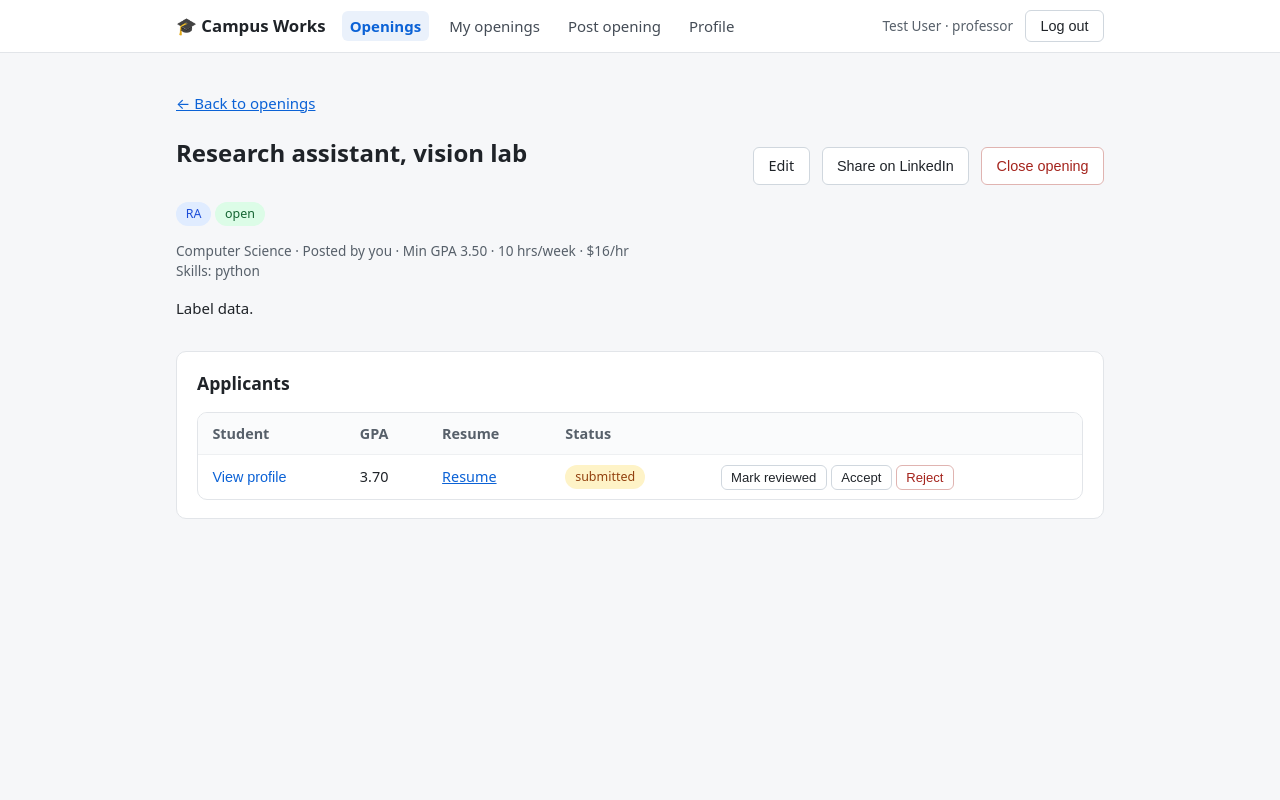
Test case: owner reviews an applicant, views the profile, shares, and closes
Expected: the heading "Applicants" is shown, [197, 371, 290, 395]
Click the button "View profile". click: (249, 477)
box: [212, 469, 286, 485]
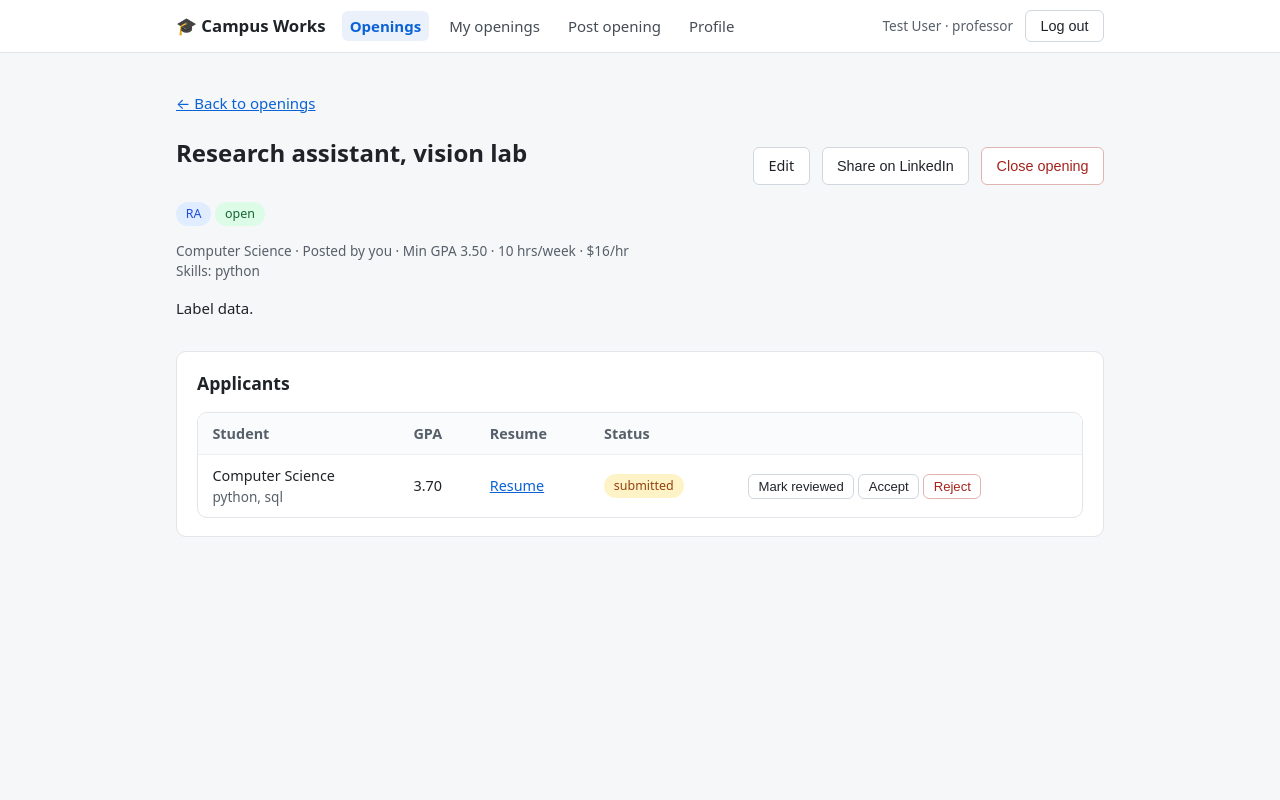
Now the text "Computer Science" is shown, box [212, 466, 335, 485]
Click the button "Mark reviewed". click: (801, 486)
box: [748, 474, 854, 499]
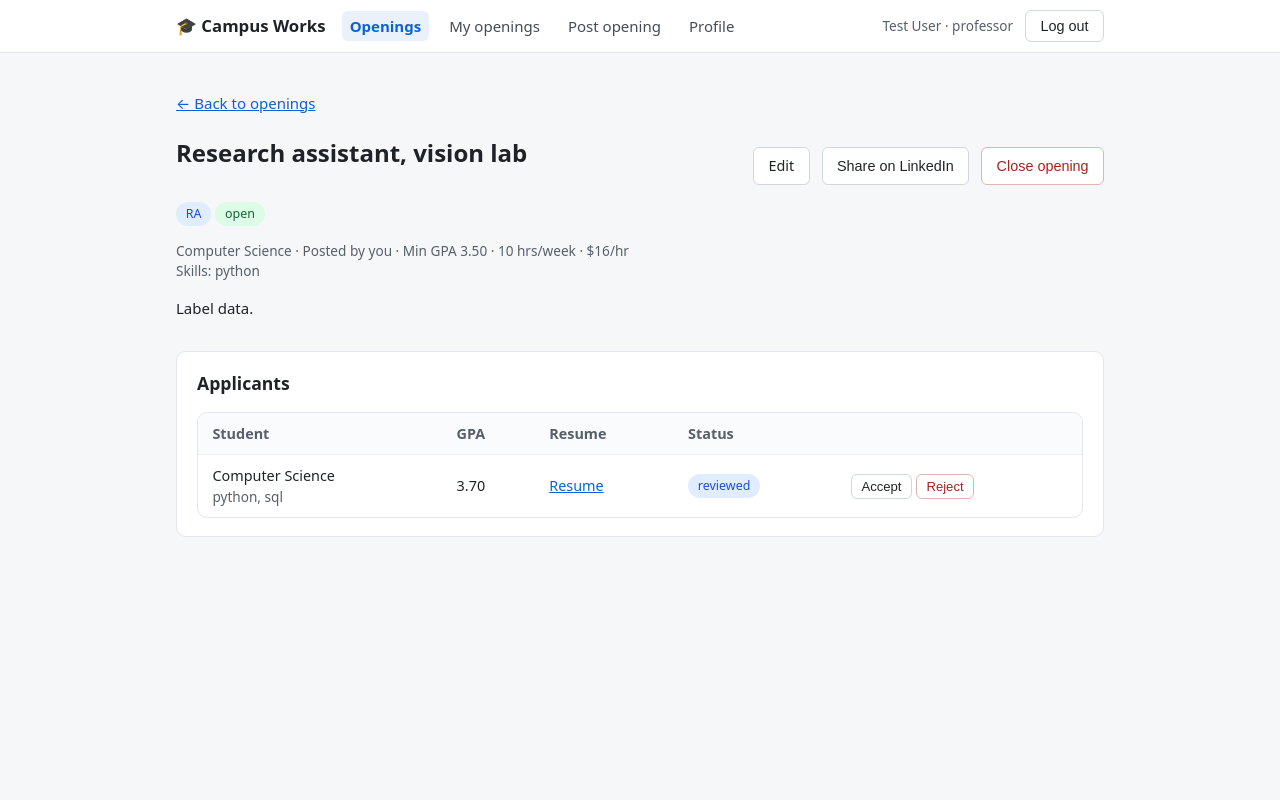
Now the text "reviewed" is shown, box [688, 474, 760, 498]
Click the button "Accept". click: (881, 486)
box: [851, 474, 912, 499]
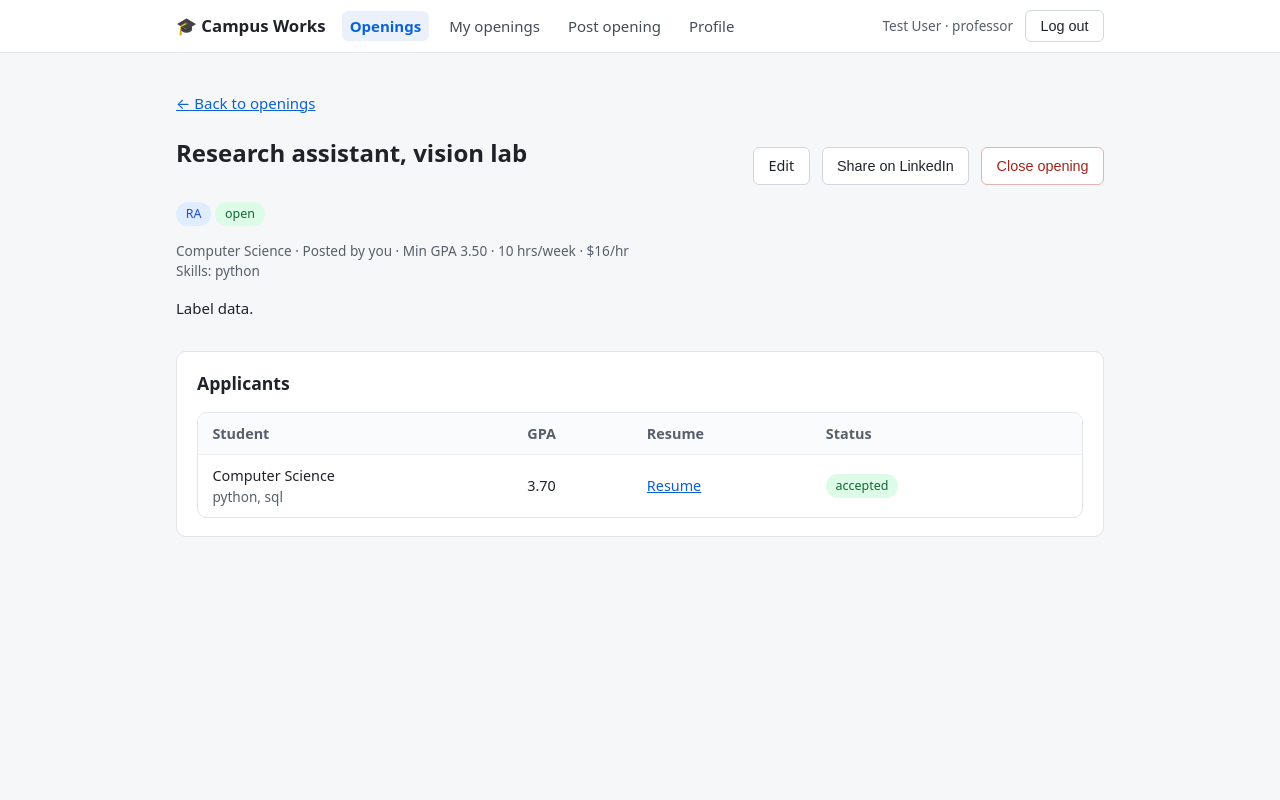
Now the text "accepted" is shown, box [826, 474, 898, 498]
Now the button "Reject" is gone
Click the button "Share on LinkedIn". click: (895, 166)
box: [822, 147, 969, 185]
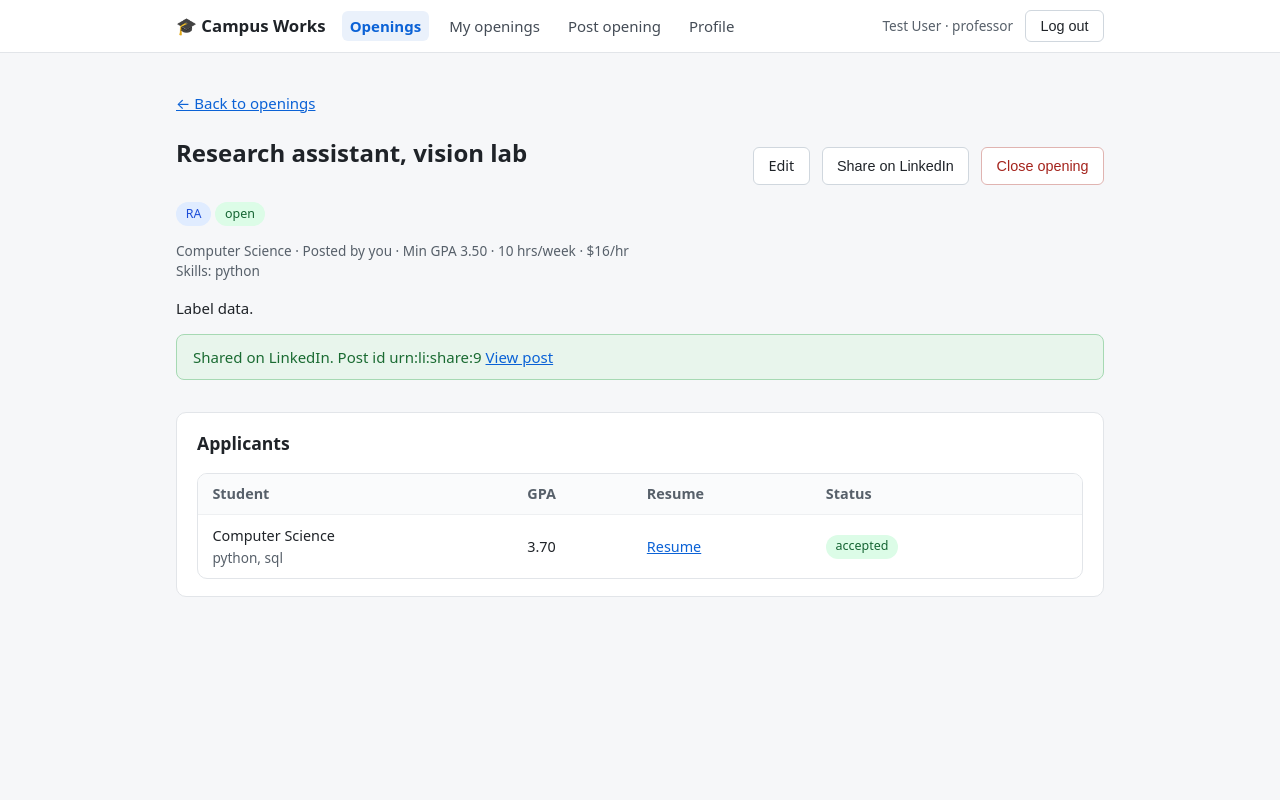
Now the message shows "Shared on LinkedIn. Post id urn:li:share:9", box [193, 347, 482, 367]
Click the button "Close opening". click: (1043, 166)
box: [981, 147, 1104, 185]
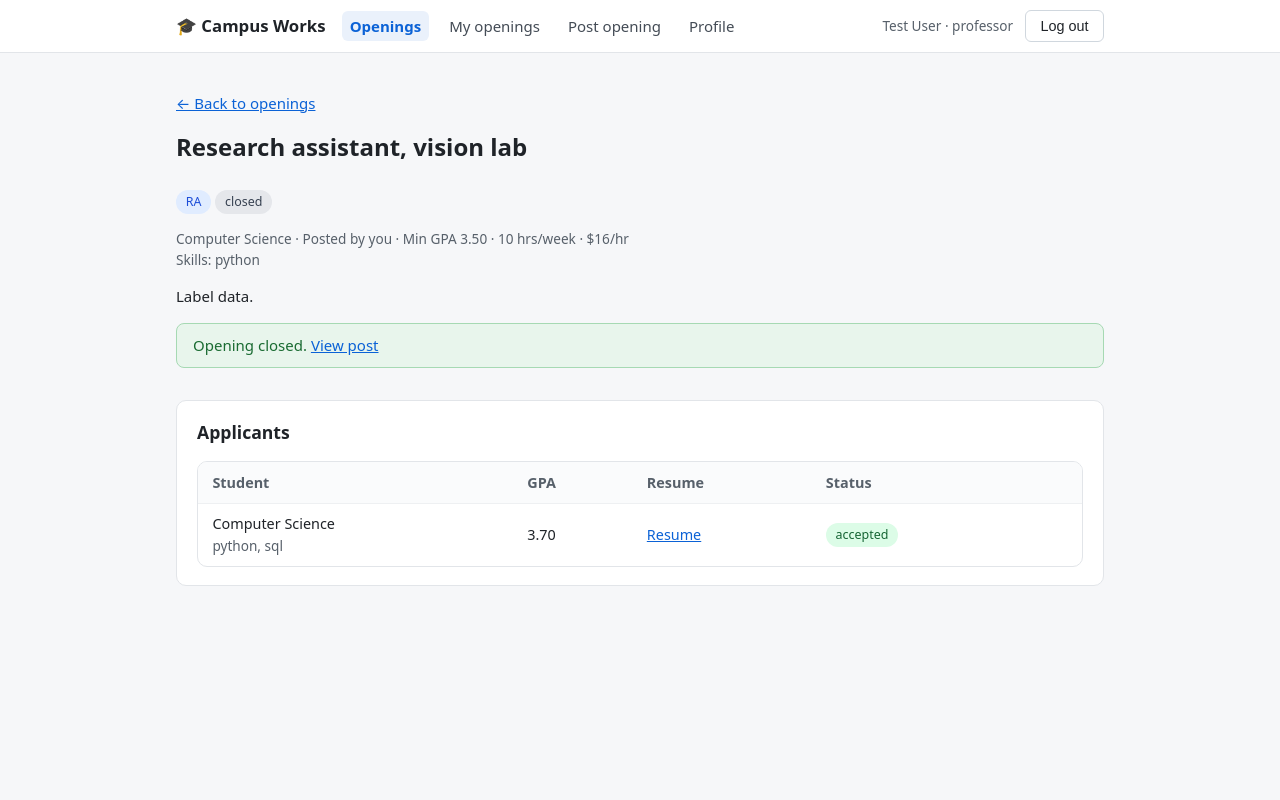
Now the text "closed" is shown, box [215, 190, 272, 214]
Now the button "Close opening" is gone
